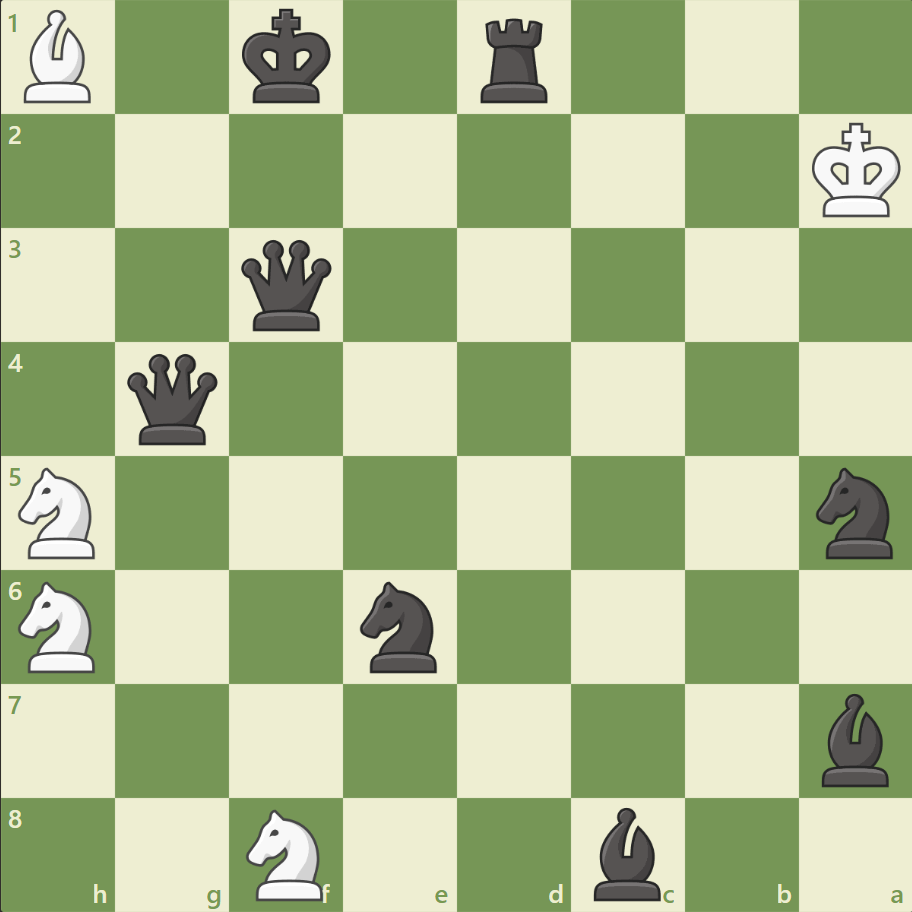B: (17, 6, 101, 109)
K: (806, 117, 906, 225)
N: (11, 461, 108, 564), (238, 802, 335, 904), (11, 575, 108, 677)
b: (585, 801, 669, 904), (812, 687, 896, 790)
k: (238, 4, 338, 112)
n: (351, 575, 449, 677), (806, 461, 903, 564)
q: (124, 349, 223, 449), (237, 236, 336, 335)
r: (473, 12, 556, 109)
